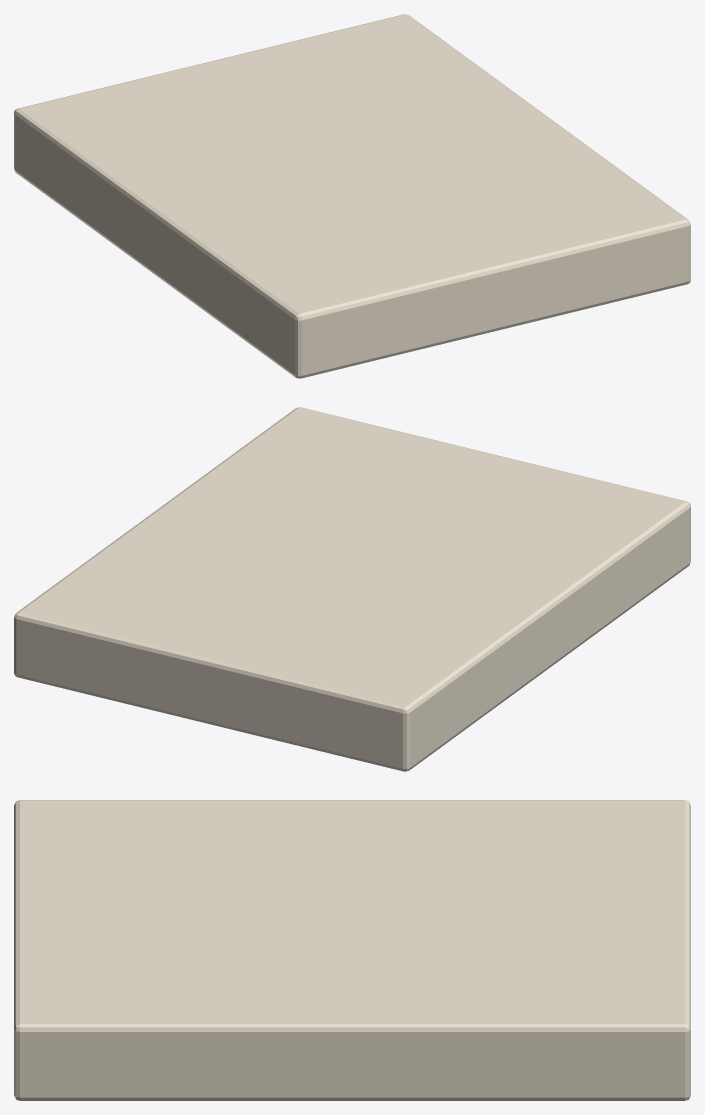
The model's file is Deck_S_Frag_plate_c_lab.glb.
3 views of the same model, one above another, from view 1: azimuth 30°, elevation 25°; view 2: azimuth 150°, elevation 25°; view 3: azimuth 270°, elevation 25° (orthographic). The views are drawn at different scales.
Parts seen in each view (by area): view 1: Deck_S_Frag_plate_c; view 2: Deck_S_Frag_plate_c; view 3: Deck_S_Frag_plate_c.
Boxes of the visible parts, bbox=[...] form: Deck_S_Frag_plate_c: bbox=[14, 14, 690, 378]; Deck_S_Frag_plate_c: bbox=[14, 407, 690, 771]; Deck_S_Frag_plate_c: bbox=[14, 800, 690, 1100].
Size of the model in its own units: 2.24 by 0.35 by 2.8.
